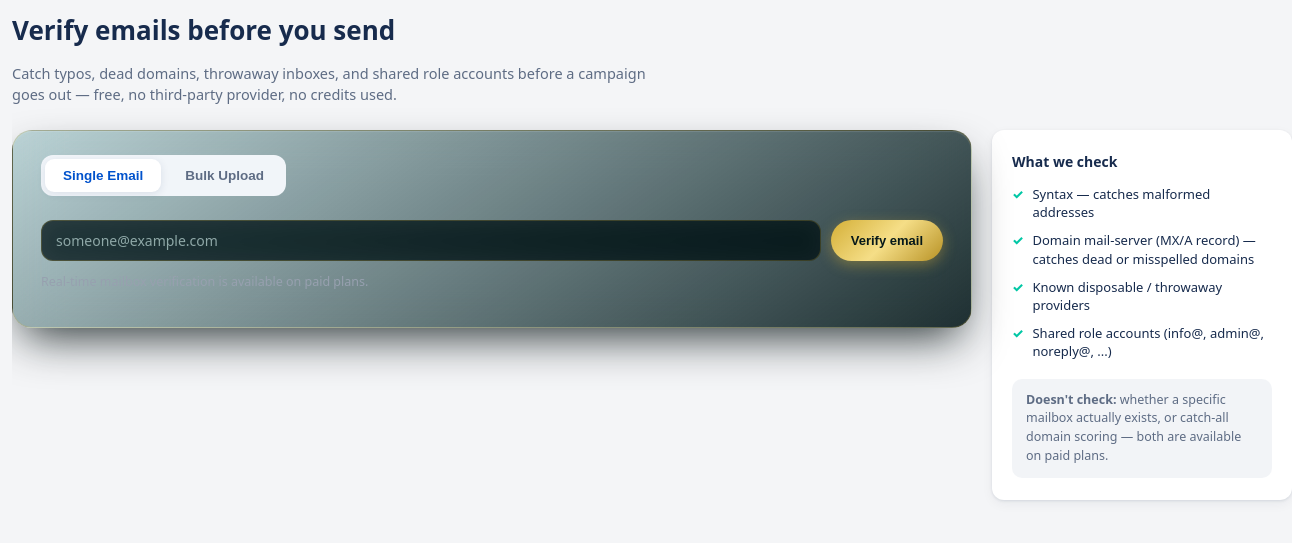
Test: VerifyEmailPage › shows the bulk CSV drop zone on the Bulk Upload tab
Click the button "Bulk Upload" at (225, 176), box [167,159,282,192]
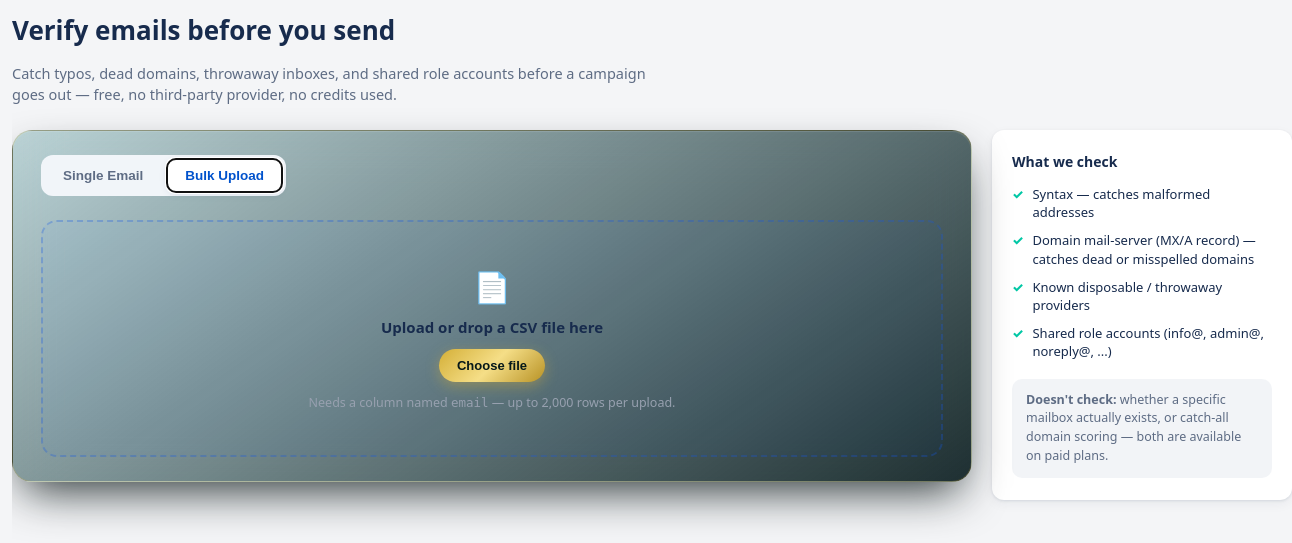
Now the button "Choose file" is shown, box [439,349,545,382]
Now the text "Upload or drop a CSV file here" is shown, box [381,317,603,337]
